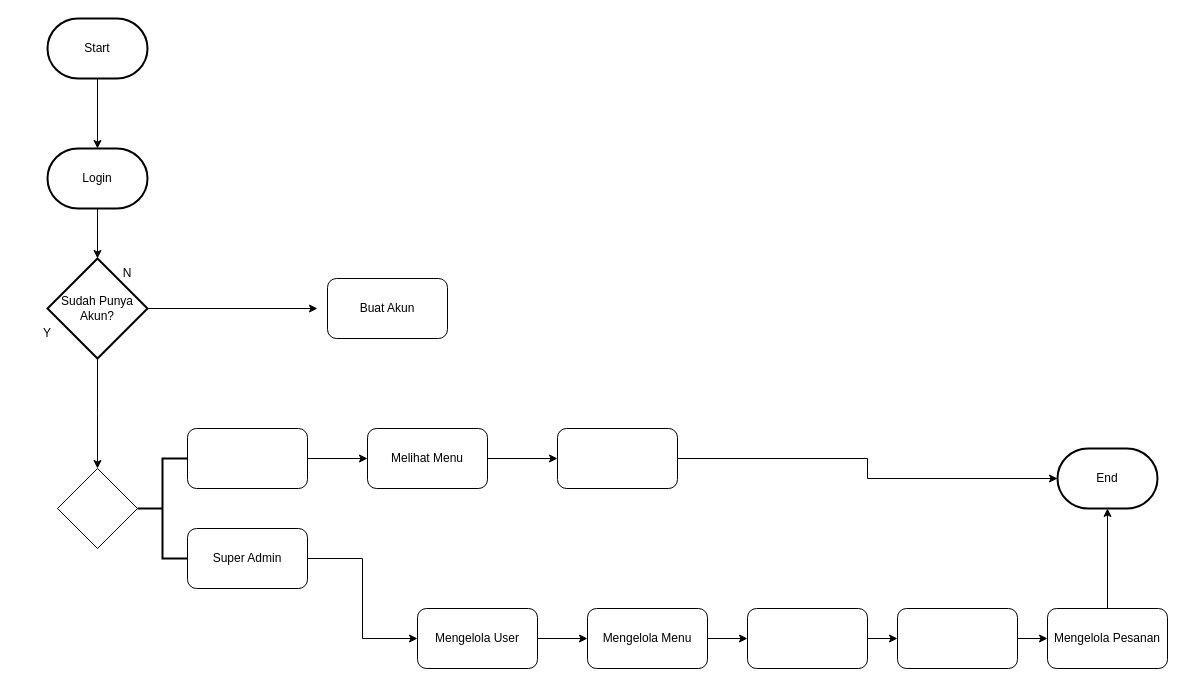
This 1185x686 diagram has some shape labels left out. The box of each missing label's shape, as (x1, y1, x2, y2) in pixels:
Cek Role: (56, 468, 138, 548)
Melakukan Pemesanan: (556, 428, 678, 488)
Mengelola Meja: (746, 608, 868, 668)
Mengelola Role: (896, 608, 1018, 668)
User: (186, 428, 308, 488)
